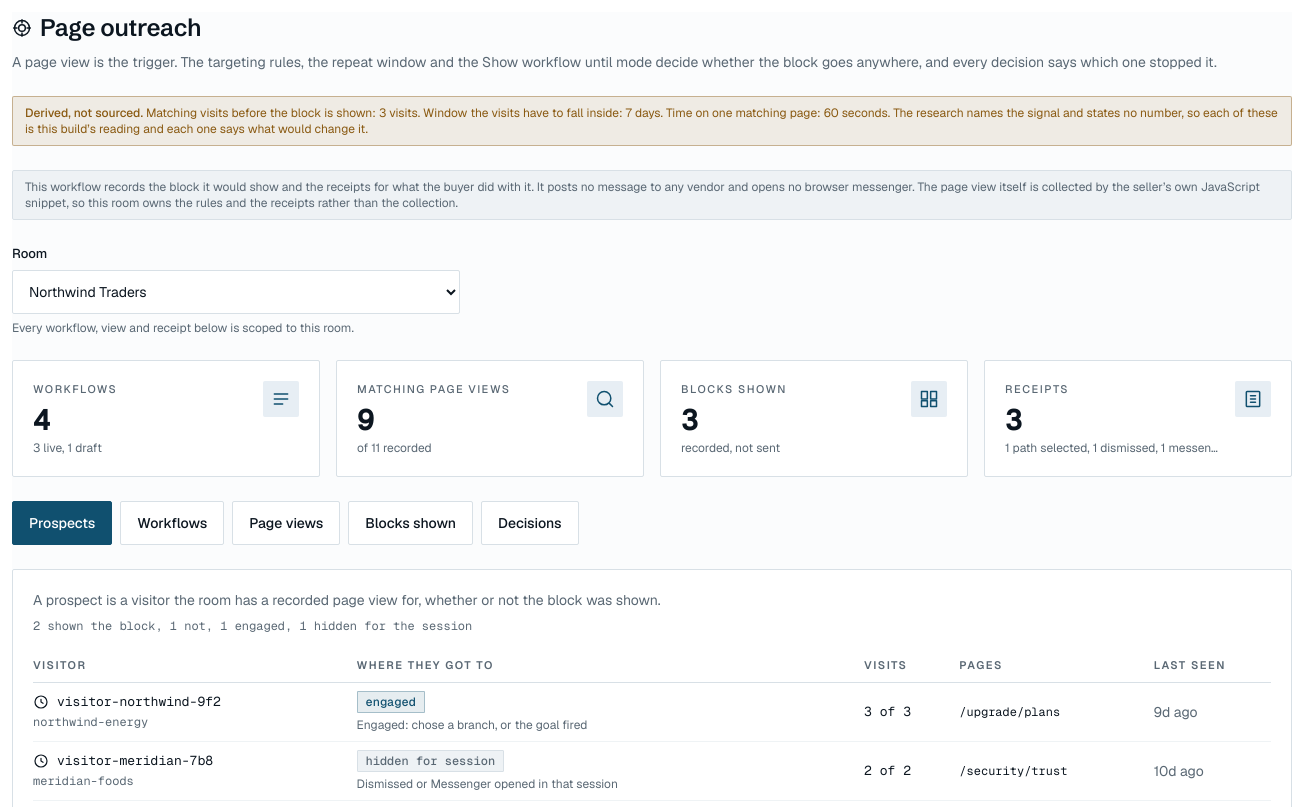
the workflows tab › explains that a workflow with no rule targets every page
This screenshot has width=1292, height=807.
expect the heading "Page outreach" is shown: met, box 40,12 -> 201,44
Click the button "Workflows". click: (172, 523)
box: 120,501 -> 224,545
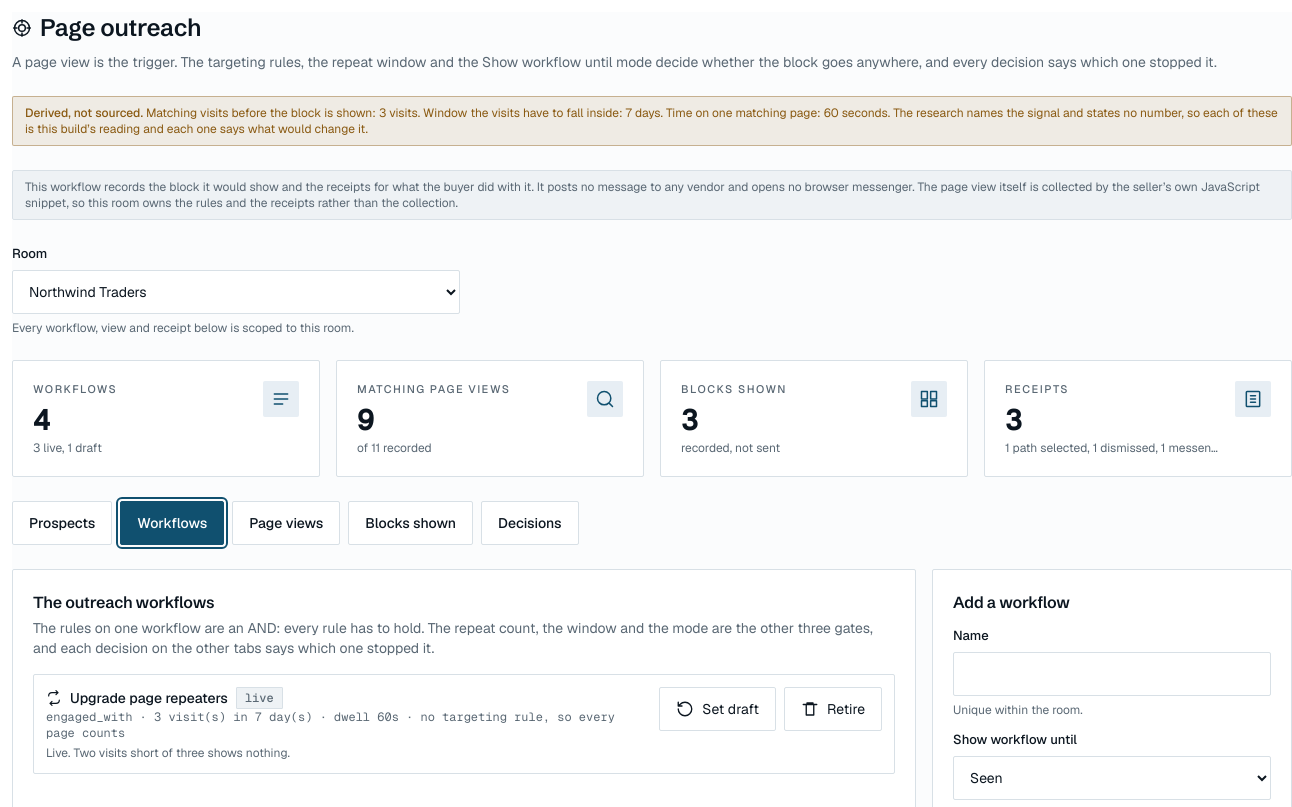
expect the heading "The outreach workflows" is shown: met, box 33,592 -> 214,612
expect the text "no targeting rule, so every page counts" is shown: met, box 46,709 -> 615,741
